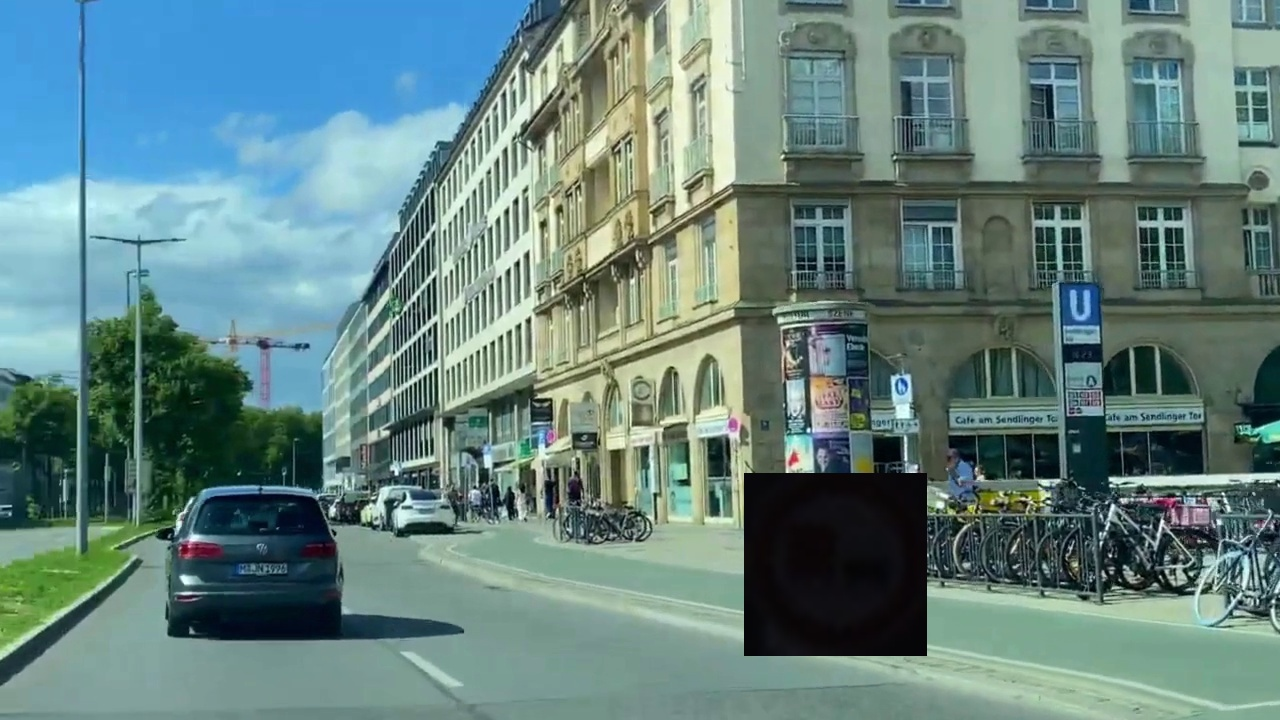No pass >3.5t: (744, 473, 927, 656)
